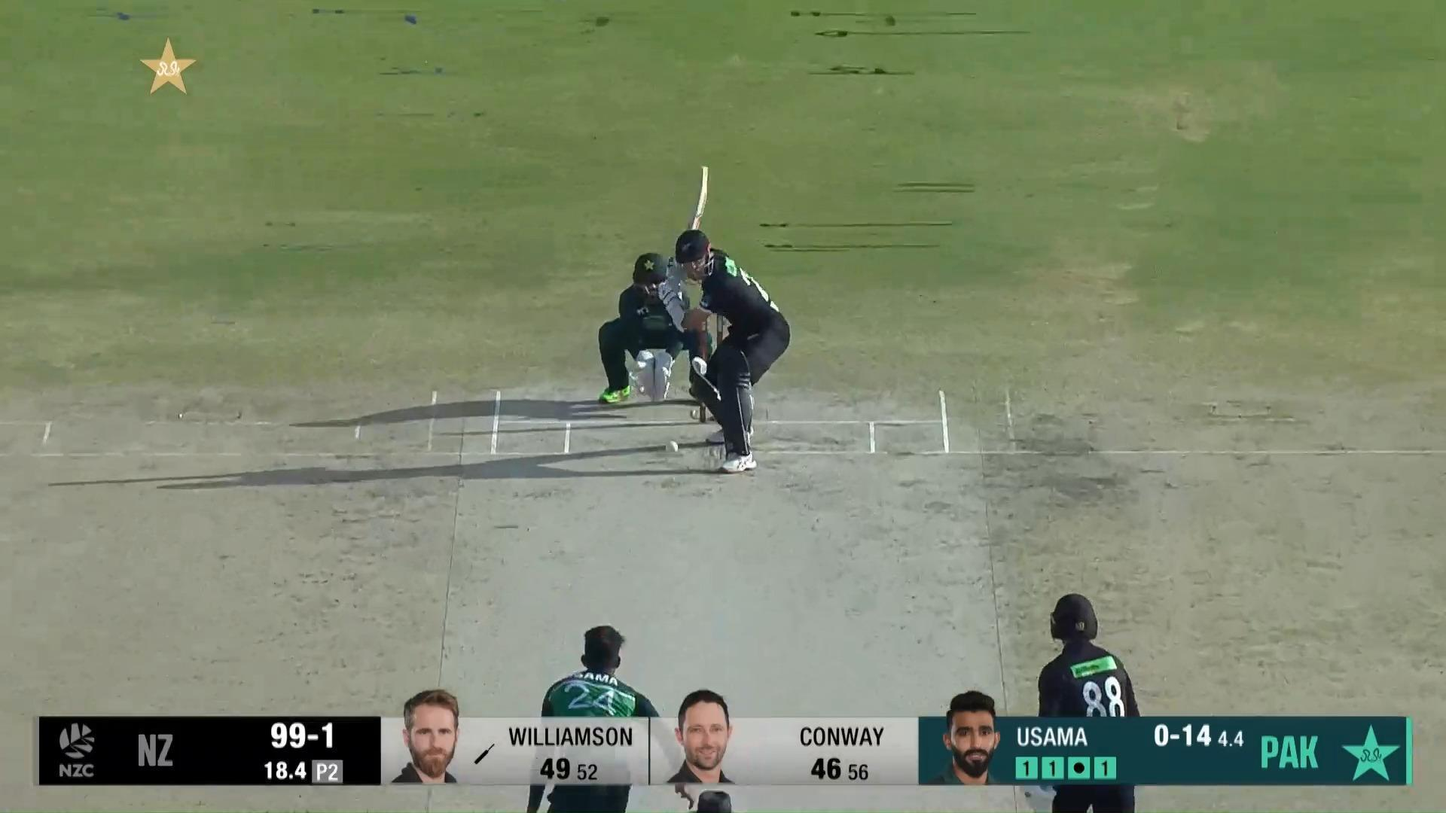BM 1: (657, 163, 791, 476)
BO: (524, 622, 686, 813)
